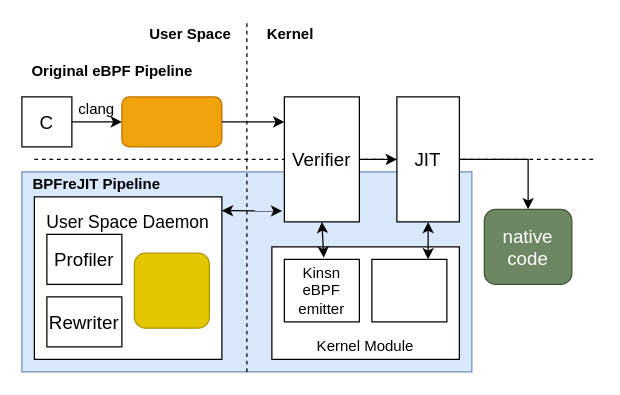
The diagram is 620 pixels wide and 395 high, and some of its shapes have lost their labels. The centre of each missing label's shape, as x and y in pixels:
"eBPF" belongs at (x=171, y=121).
"eBPF + kinsn" belongs at (x=171, y=290).
"Kinsn Native emitter" belongs at (x=409, y=290).
